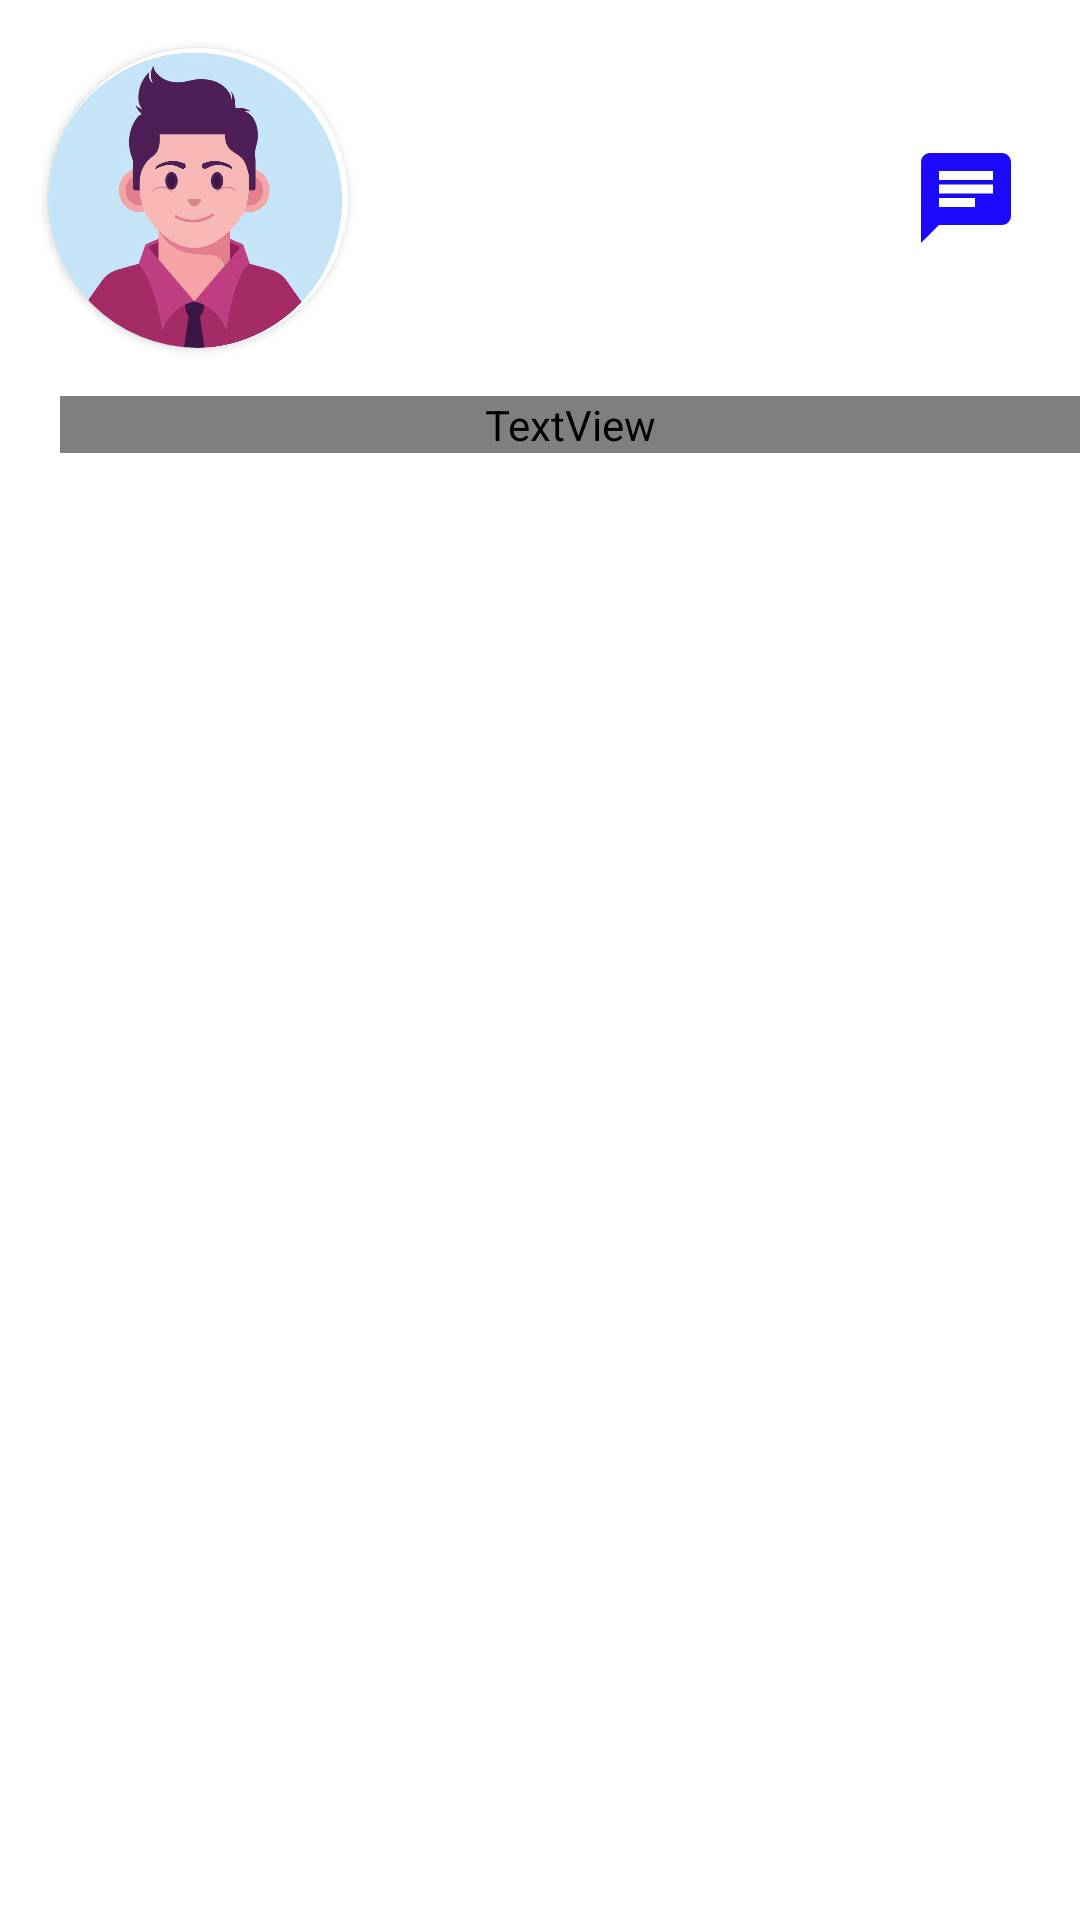

Named icons in this screenshot (1080×1920) and their bounding boxes, (x1, y1, x2, y2):
chat: (921, 153, 1011, 243)
